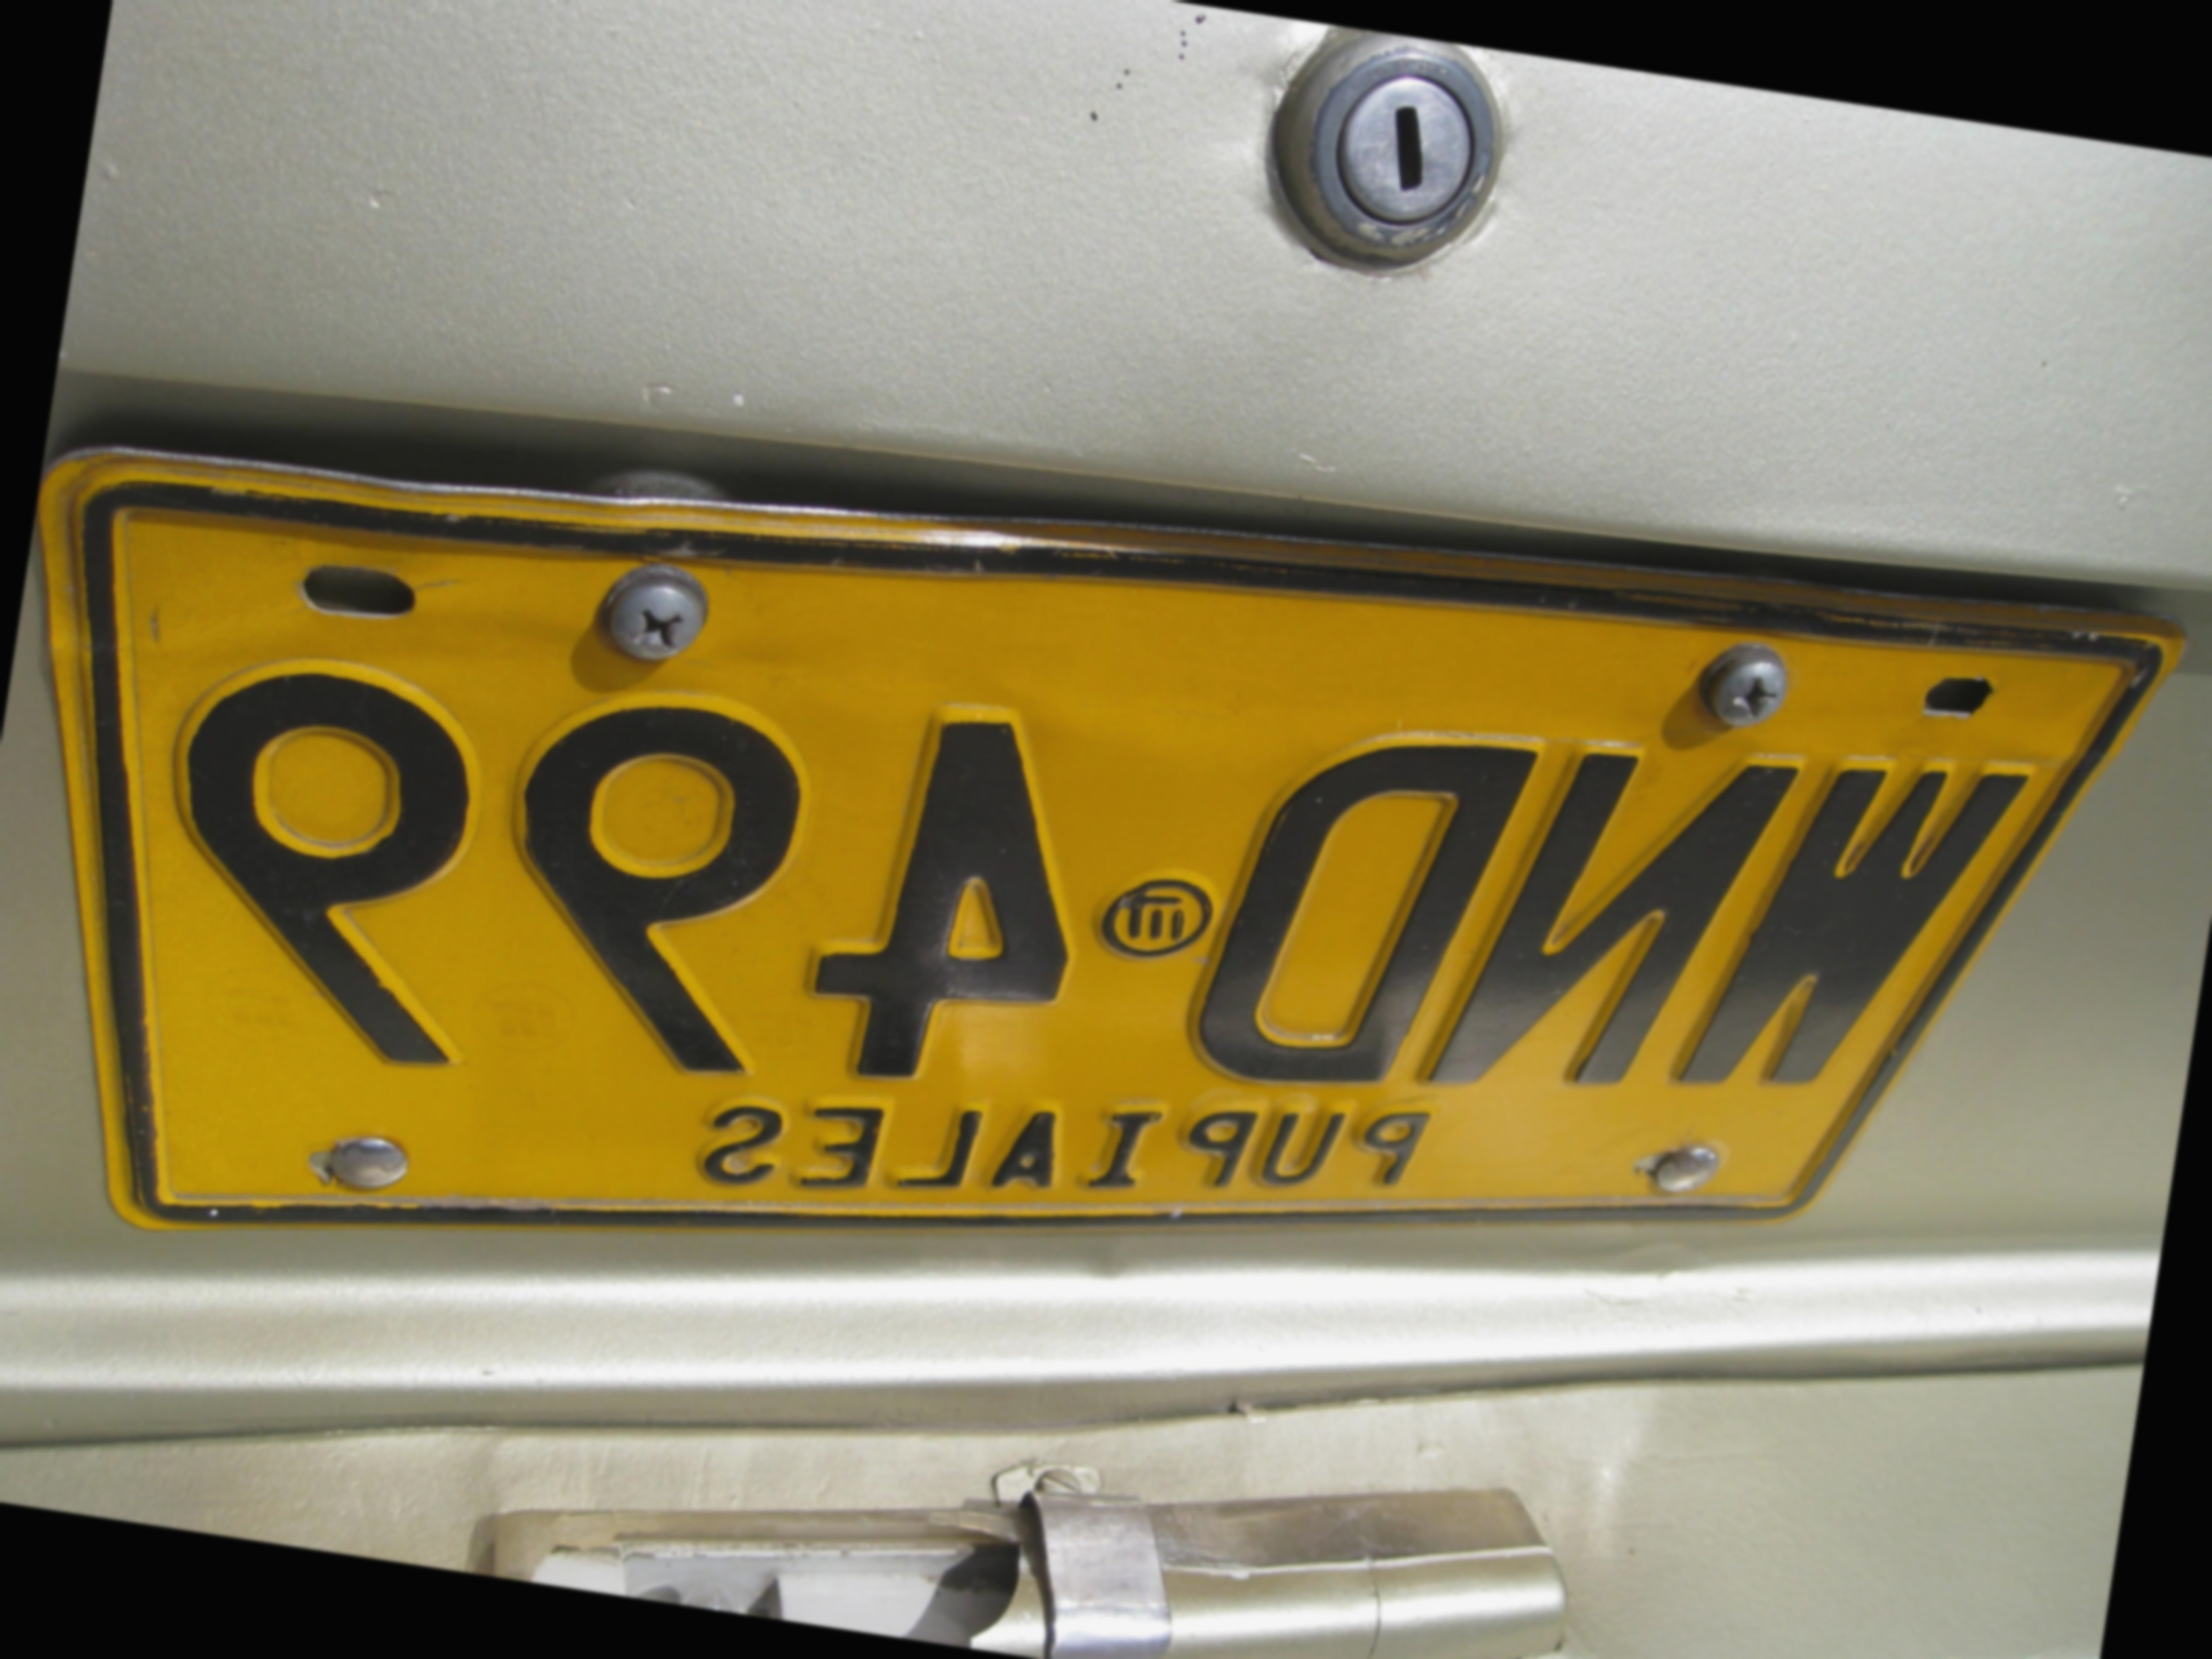placas: (0, 289, 2209, 1527)
